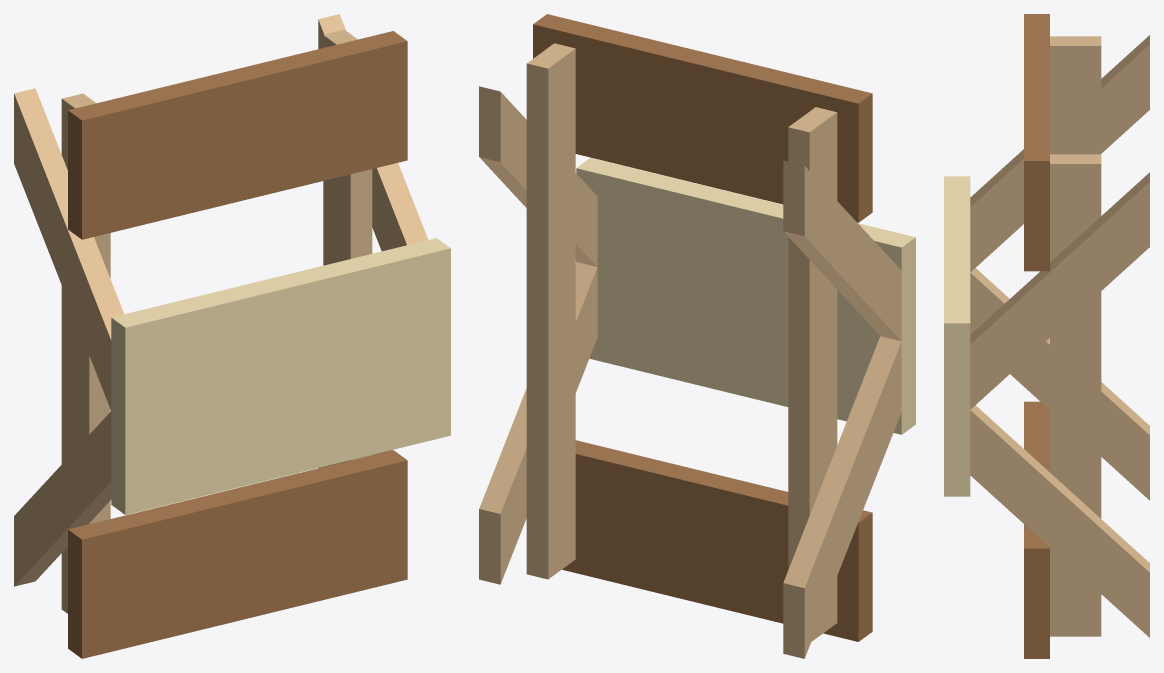
Rendered from tinker.obj.
3 views of the same model, side by side, from view 1: azimuth 30°, elevation 25°; view 2: azimuth 150°, elevation 25°; view 3: azimuth 270°, elevation 25° (orthographic). The views are drawn at different scales.
Visible parts, largest first — view 1: group_0_11107152, group_0_16311991, group_0_14860437; view 2: group_0_14860437, group_0_11107152, group_0_16311991; view 3: group_0_14860437, group_0_11107152, group_0_16311991.
Part boxes in pixels (x1,y1,x2,y2): group_0_11107152: (68,31,407,658); group_0_16311991: (111,238,450,514); group_0_14860437: (14,14,428,613); group_0_14860437: (479,43,901,658); group_0_11107152: (533,14,872,641); group_0_16311991: (576,158,915,434); group_0_14860437: (970,35,1149,637); group_0_11107152: (1024,14,1049,658); group_0_16311991: (944,176,970,496).
Size of the model in its own units: 10 by 15.81 by 5.92.
